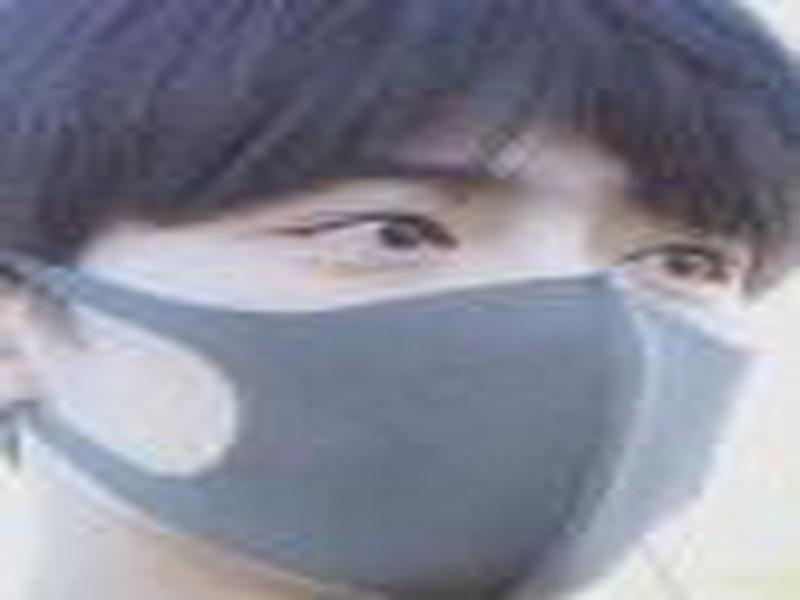with_mask: (1, 48, 763, 595)
